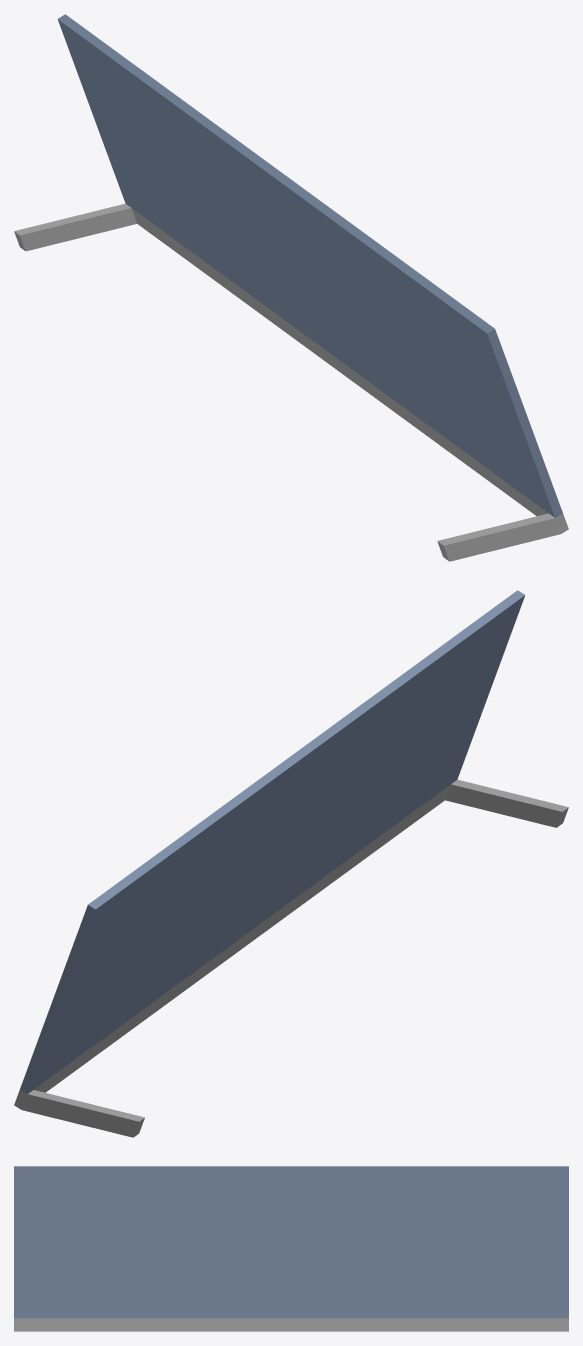
File: LaneBlocker.fbx
3 renders of one model, top to bottom at view 1: azimuth 30°, elevation 25°; view 2: azimuth 150°, elevation 25°; view 3: azimuth 270°, elevation 25°, orthographic. The views are drawn at different scales.
Parts seen in each view (by area): view 1: LaneBlocker; view 2: LaneBlocker; view 3: LaneBlocker.
Boxes of the visible parts, <box> form: LaneBlocker: <box>14,14,568,561</box>; LaneBlocker: <box>14,590,568,1137</box>; LaneBlocker: <box>14,1166,568,1331</box>.
Size of the model in its own units: 0.5654 by 0.9571 by 3.36.
